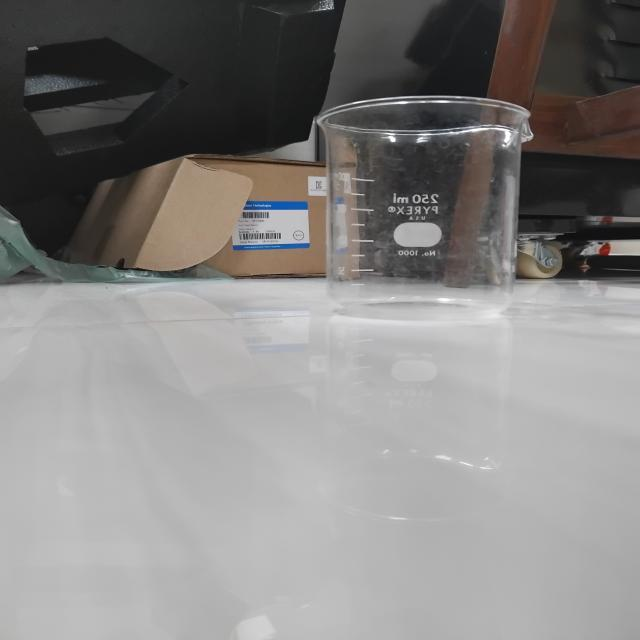Beaker: (244, 68, 572, 346)
